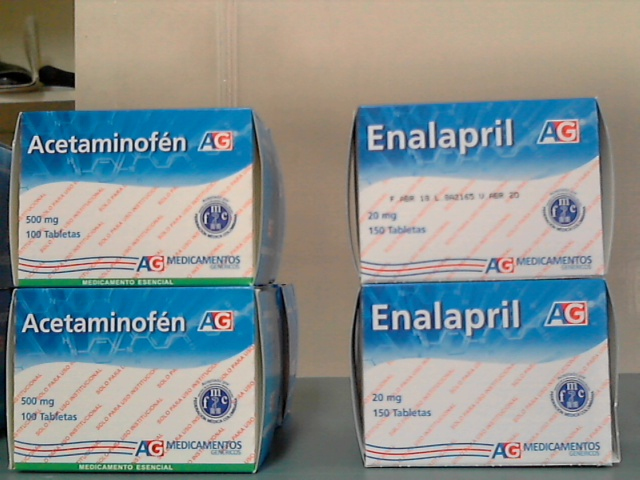AG: (365, 286, 611, 467), (14, 289, 256, 472), (360, 102, 605, 277), (20, 112, 254, 287)
